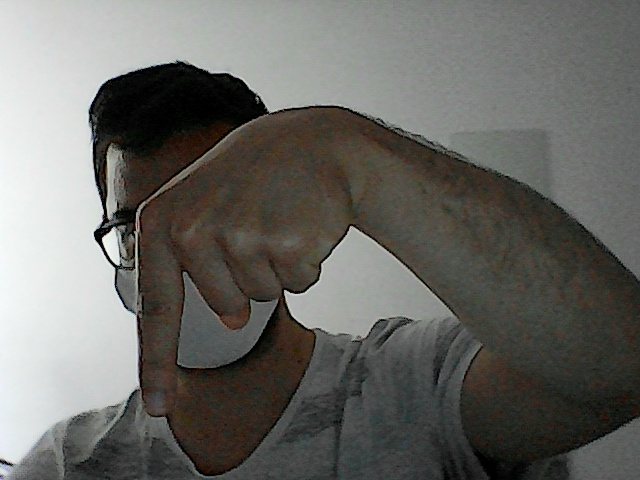down: (123, 96, 362, 426)
